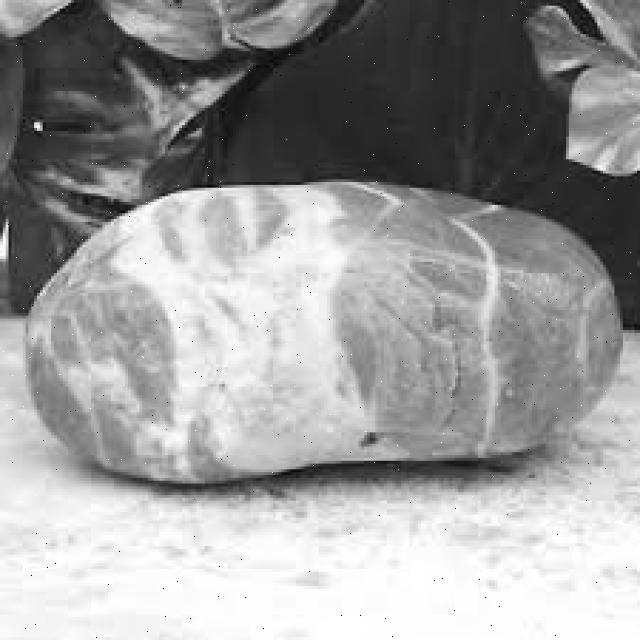Metamorphic: (17, 182, 623, 458)
